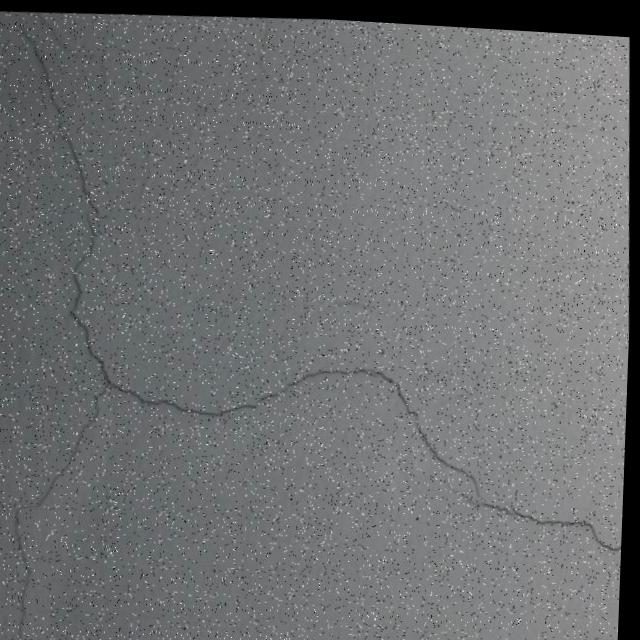Crack: (111, 329, 631, 572), (0, 7, 132, 381), (0, 380, 122, 640)
